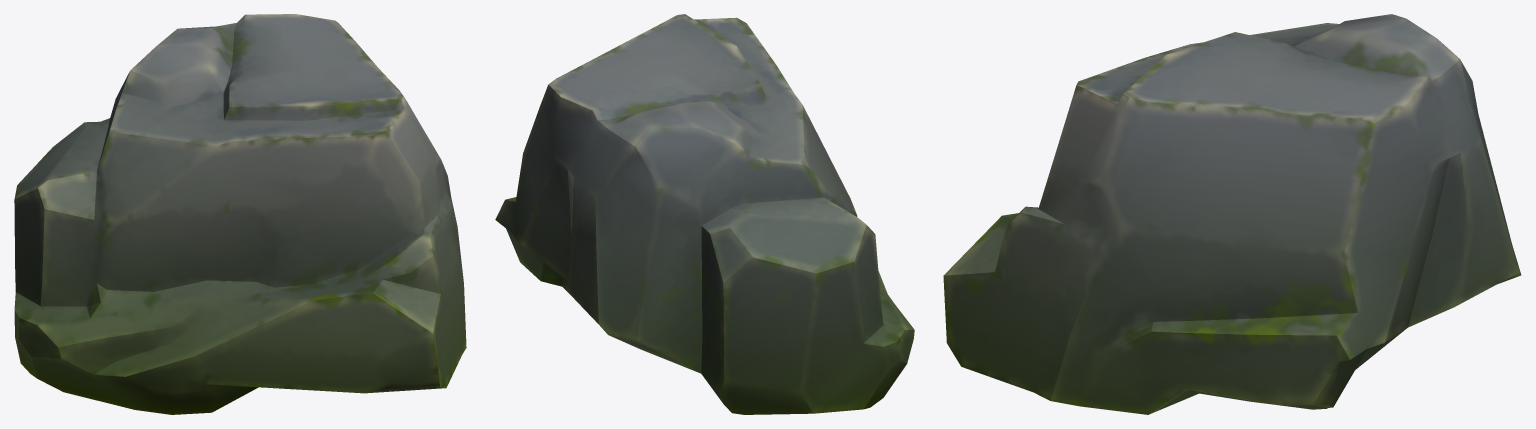
File: Rock_Medium_2.gltf
3 renders of one model, left to right at view 1: azimuth 30°, elevation 25°; view 2: azimuth 150°, elevation 25°; view 3: azimuth 270°, elevation 25°, orthographic. The views are drawn at different scales.
Visible parts, largest first — view 1: Rock_Medium_3; view 2: Rock_Medium_3; view 3: Rock_Medium_3.
Boxes of the visible parts, x1,y1,x2,y2 form: Rock_Medium_3: (14, 14, 466, 414); Rock_Medium_3: (495, 14, 914, 414); Rock_Medium_3: (943, 14, 1521, 414).
Size of the model in its own units: 3.42 by 2.32 by 3.48.
Materials: 1 (1 with a texture image).
